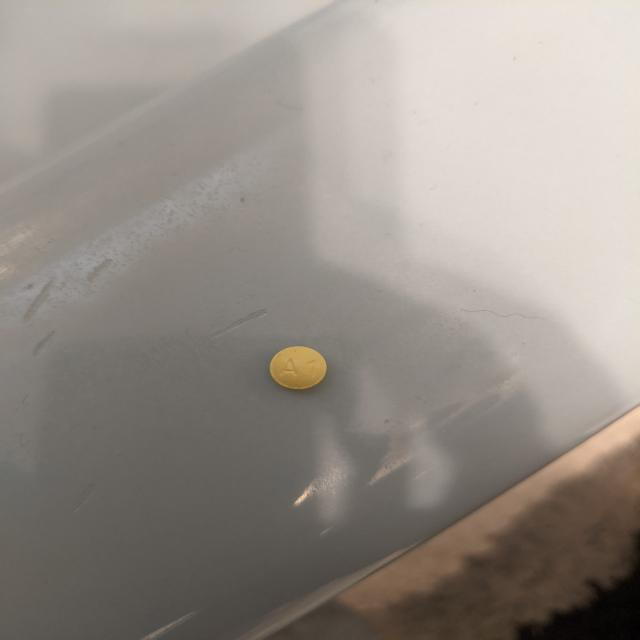non-organic waste: (268, 345, 328, 390)
